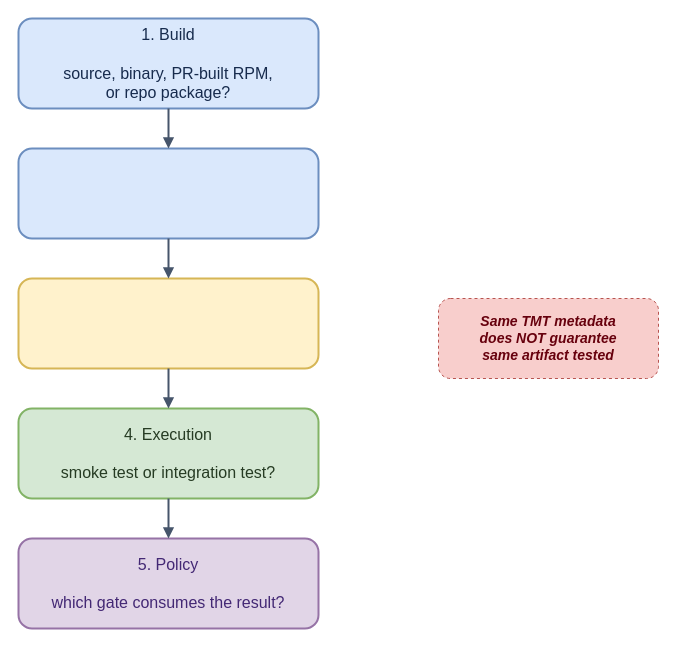
Some shapes in this 676 by 646 pixel diagram are drawn without their labels. Each missing label, with the centre of its shape:
2. Discovery which TMT plan and test selected?: pixel 168 193
3. Preparation candidate installed or just present?: pixel 168 323
